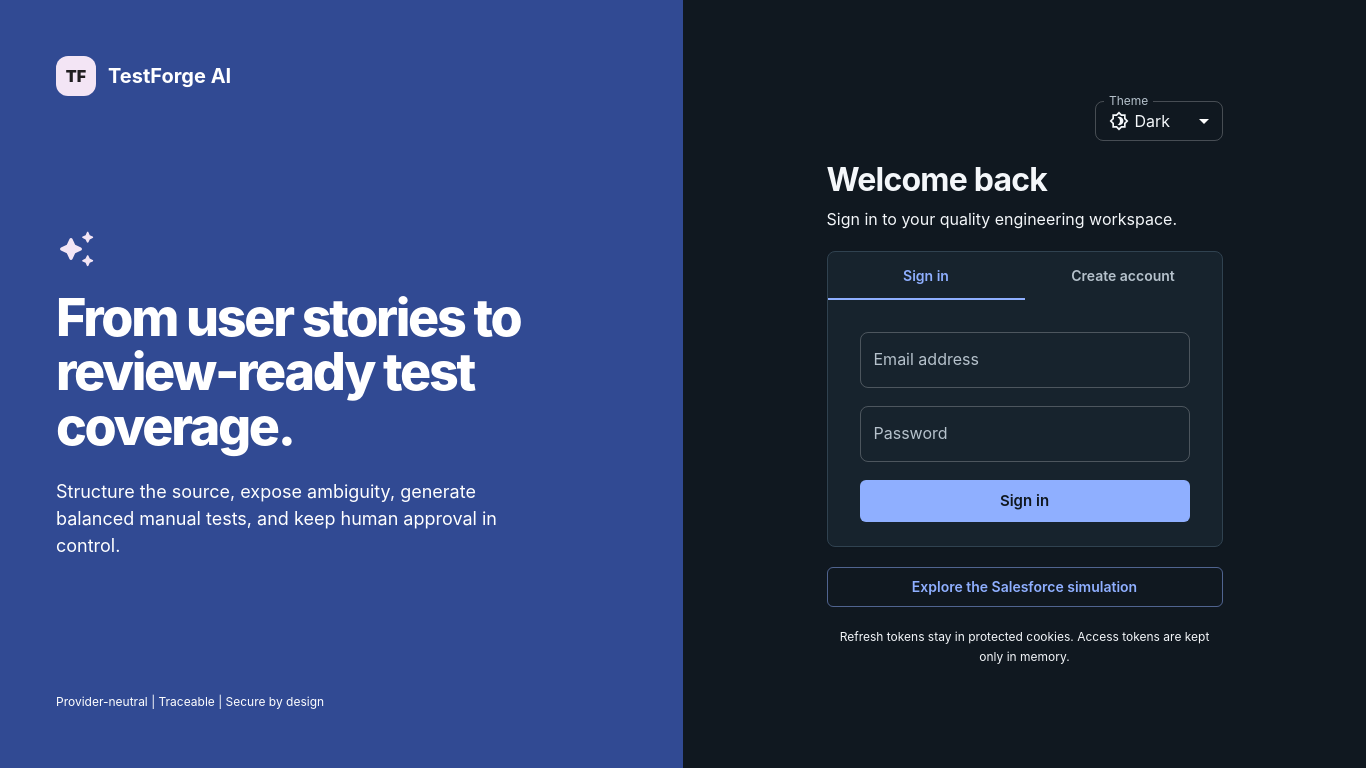
Test case: TestForge application › signs in and displays the owned project workspace
This screenshot has width=1366, height=768.
Step 1. Type "demo@testforge.local" into the field labelled "Email address" → (1024, 360), box [860,332,1190,388]
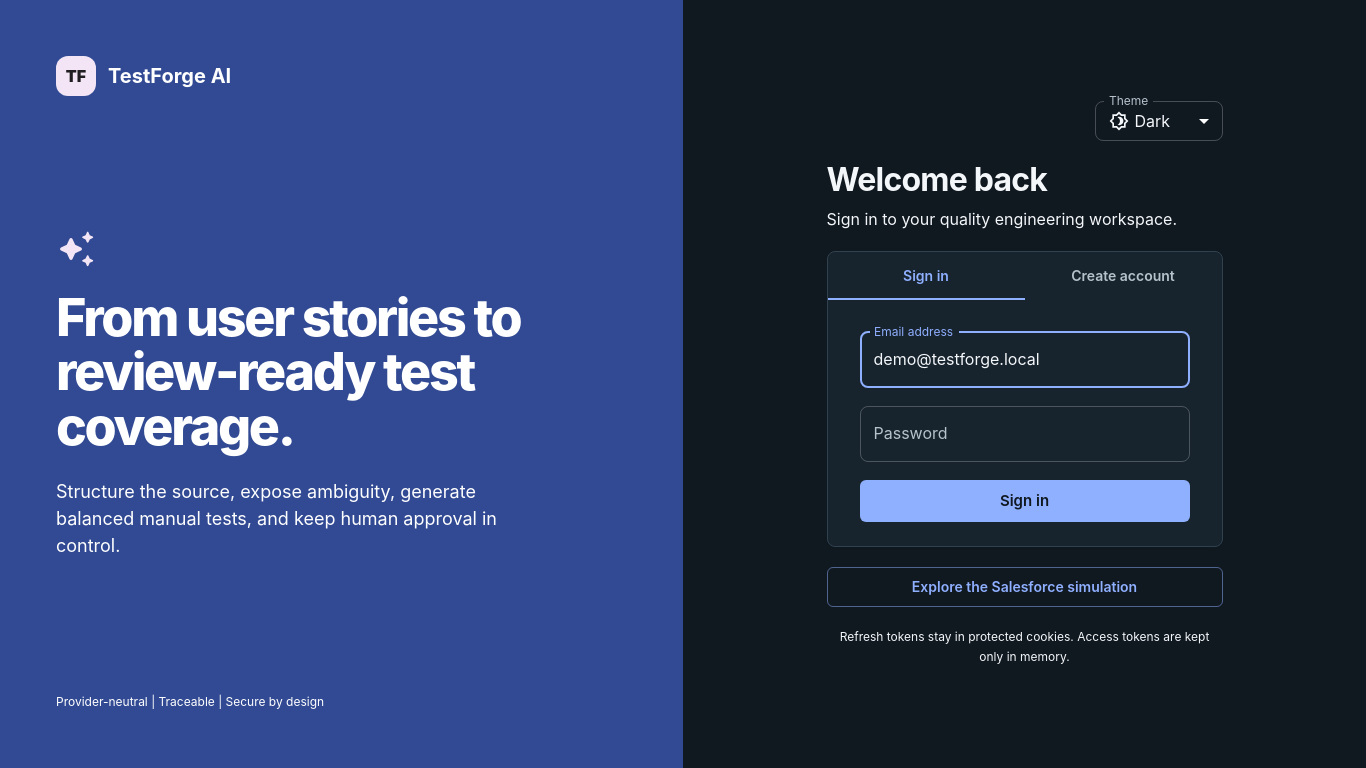
Step 2. Type "TestForge!Demo2026" into the password field labelled "Password" → (1024, 434), box [860,406,1190,462]
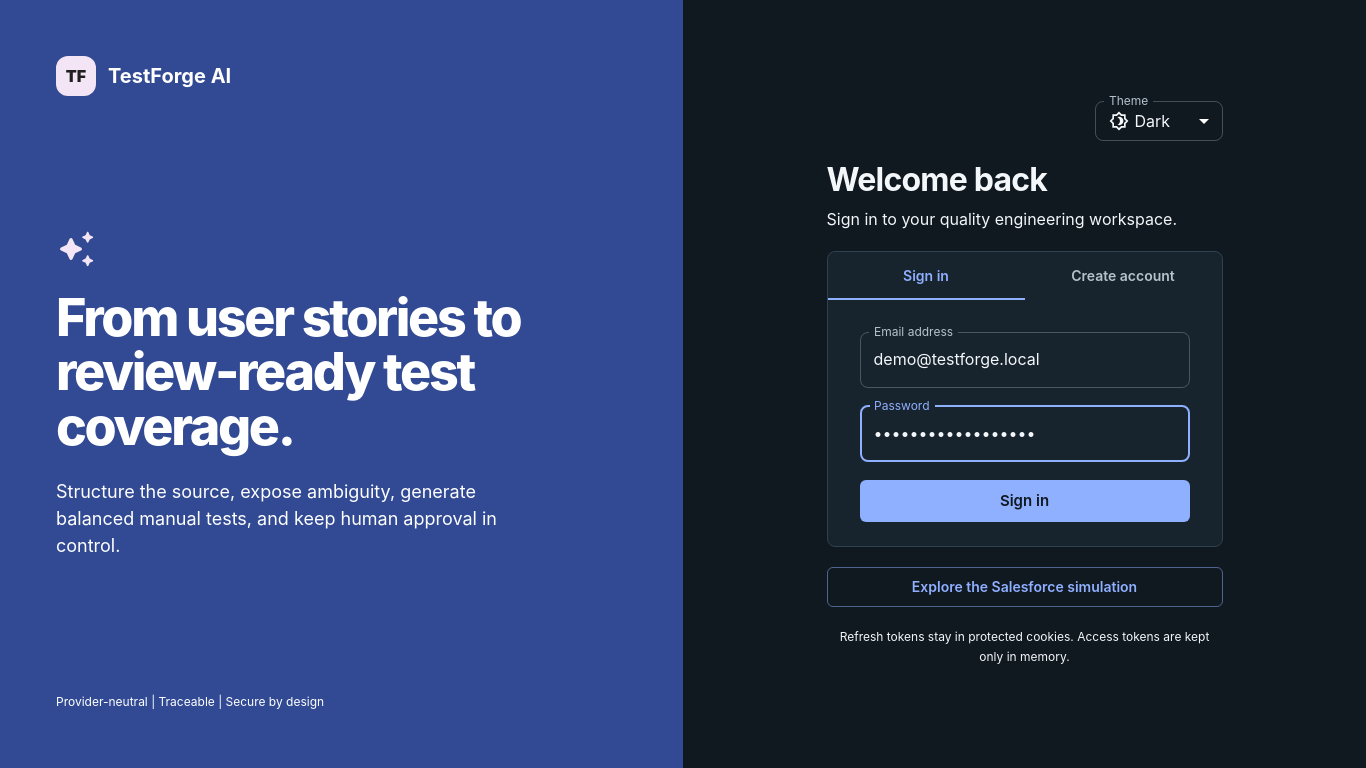
Step 3. Click the button "Sign in" → (1024, 501), box [860,480,1190,522]
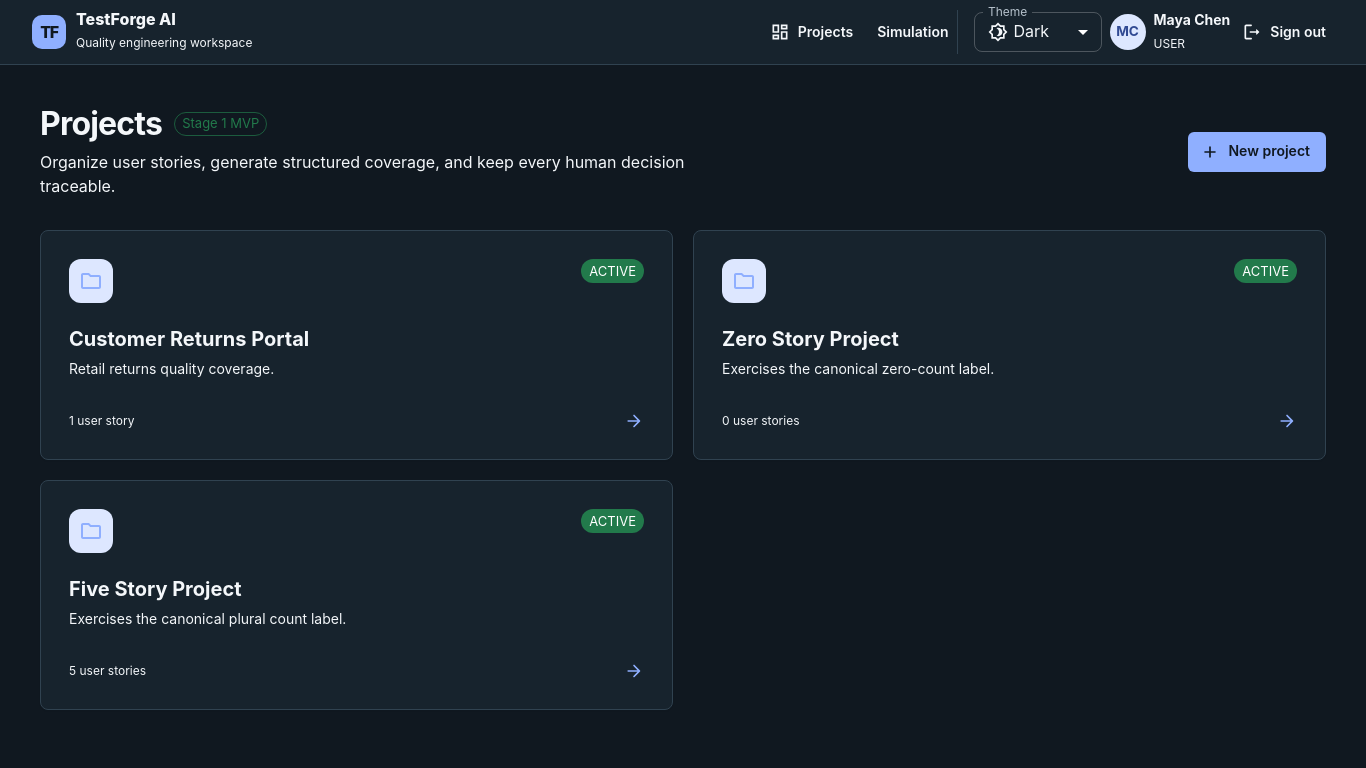
Now the heading "Projects" is shown, box [40,105,162,142]
Now the heading "Customer Returns Portal" is shown, box [69,327,309,351]
Now the text "1 user story" is shown, box [69,411,134,431]
Both responsive variants are mounted in jsdom because it does not apply MUI breakpoints.
Step 4. Click the button "Sign out" → (1286, 32), box [1238,12,1334,52]
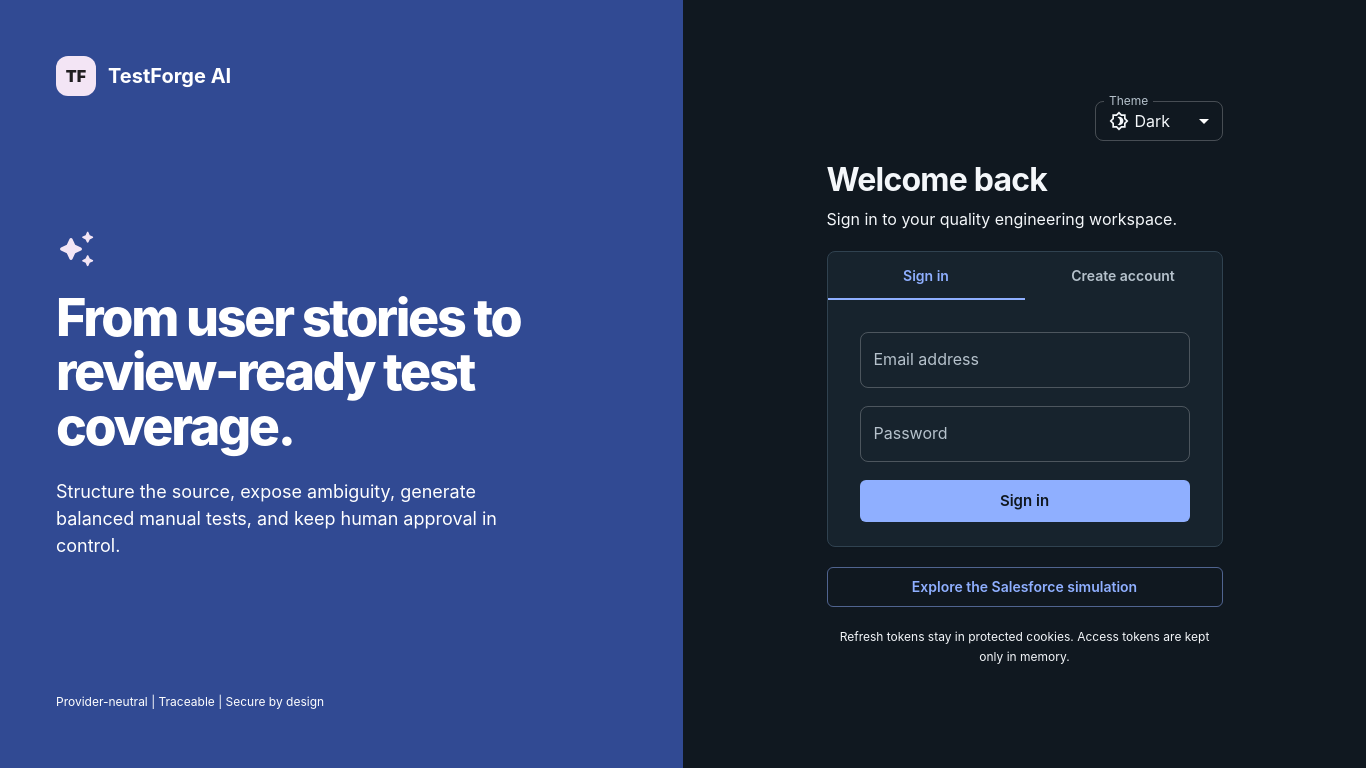
Now the heading "Welcome back" is shown, box [826,160,1047,199]
